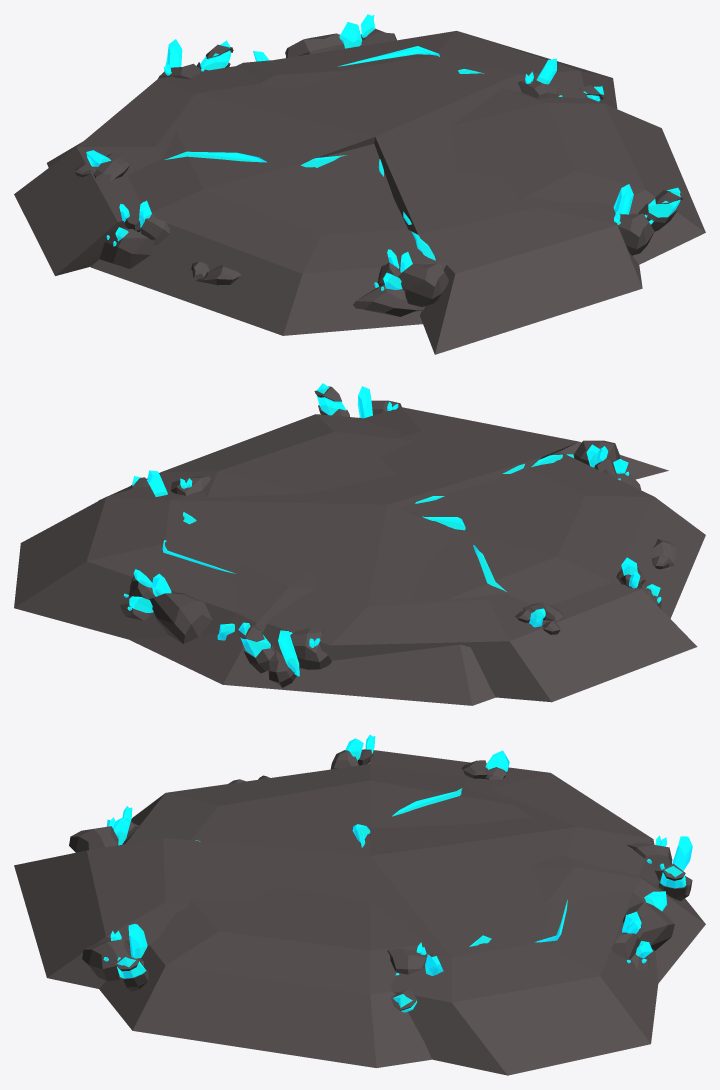
Rendered from Mdl_OreZone.fbx.
3 renders of one model, top to bottom at view 1: azimuth 30°, elevation 25°; view 2: azimuth 150°, elevation 25°; view 3: azimuth 270°, elevation 25°, orthographic. The views are drawn at different scales.
Parts seen in each view (by area): view 1: zona_tiera, zona_cristal; view 2: zona_tiera, zona_cristal; view 3: zona_tiera, zona_cristal.
Boxes of the visible parts, bbox=[...] form: zona_tiera: bbox=[14, 28, 705, 354]; zona_cristal: bbox=[86, 14, 680, 290]; zona_tiera: bbox=[14, 386, 705, 705]; zona_cristal: bbox=[123, 383, 661, 676]; zona_tiera: bbox=[14, 749, 705, 1075]; zona_cristal: bbox=[103, 734, 692, 1012].
Size of the model in its own units: 11.11 by 1.46 by 10.37.
